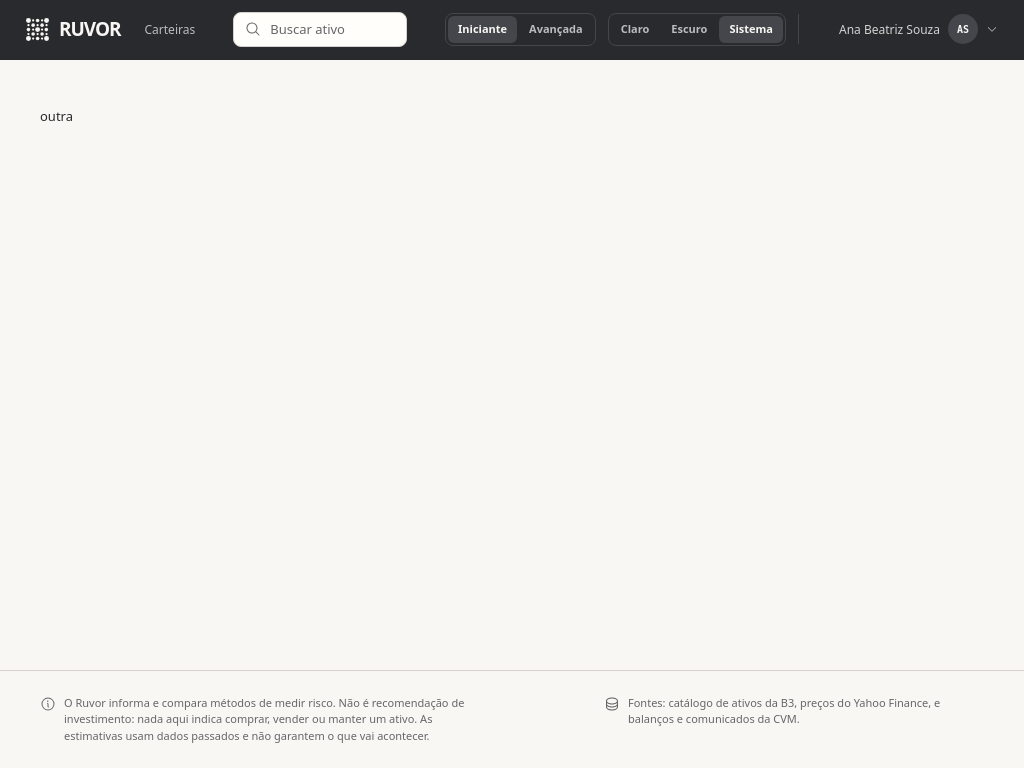
Scenario: o menu aberto (RF-09) › abre pelo botão: o nome, o e-mail, a organização, Trocar a senha com o next, Sair
Click the button "Ana Beatriz Souza AS" at (904, 30), box [811,14,998,44]
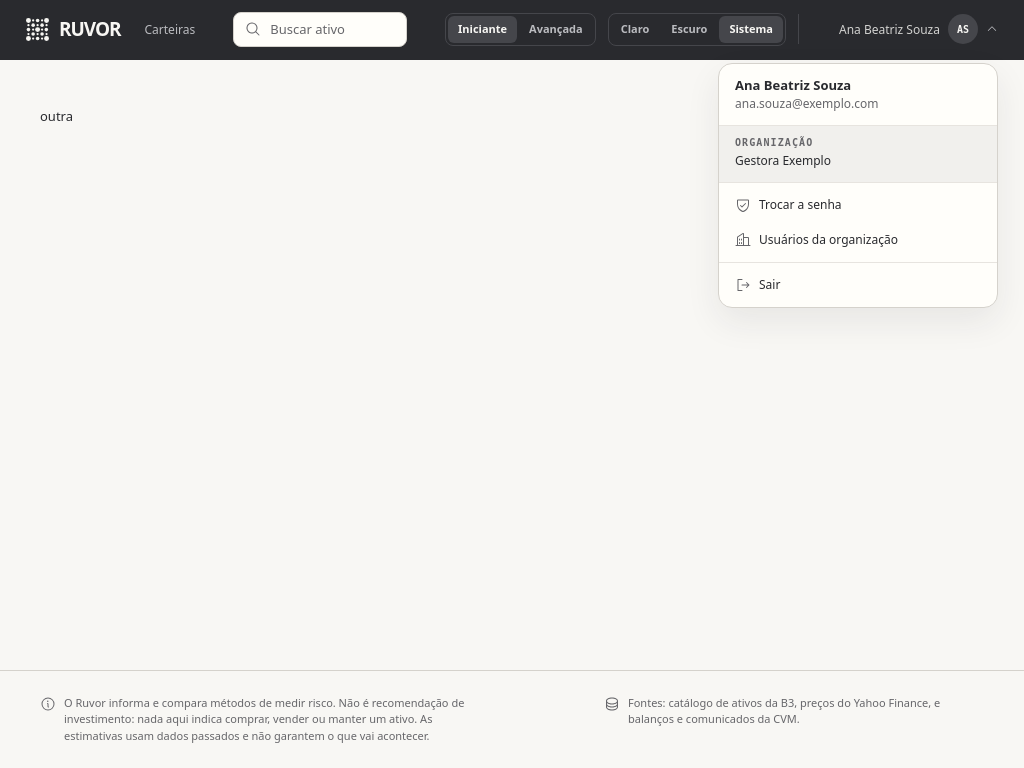
Expected: the text "ana.souza@exemplo.com" is shown, [735,95,878,112]
Expected: the 2nd text "Ana Beatriz Souza" is shown, [735,76,851,94]
